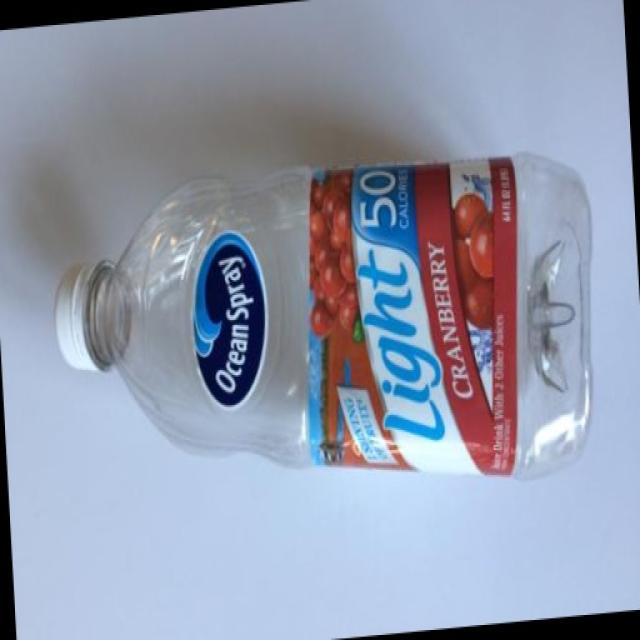plastico: (38, 132, 626, 523)
